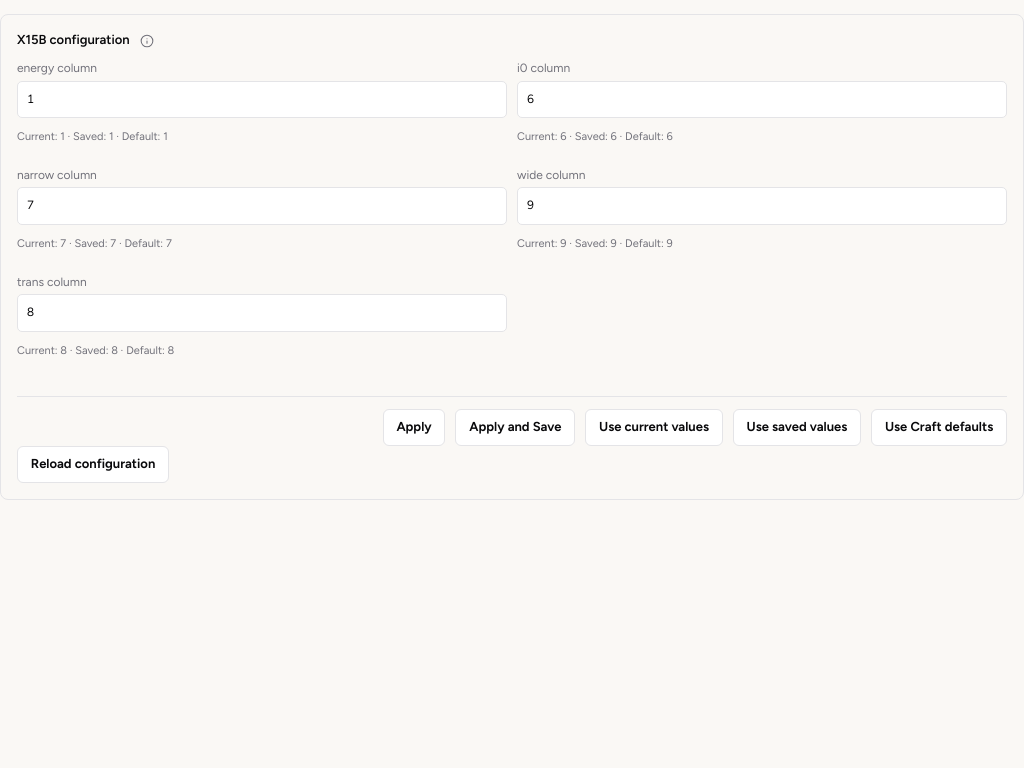
Scenario: applies only on demand and distinguishes current, saved and factory values
Replace the text in the number field labelled "i0 column" with "7" at (762, 99), box [517,81,1007,118]
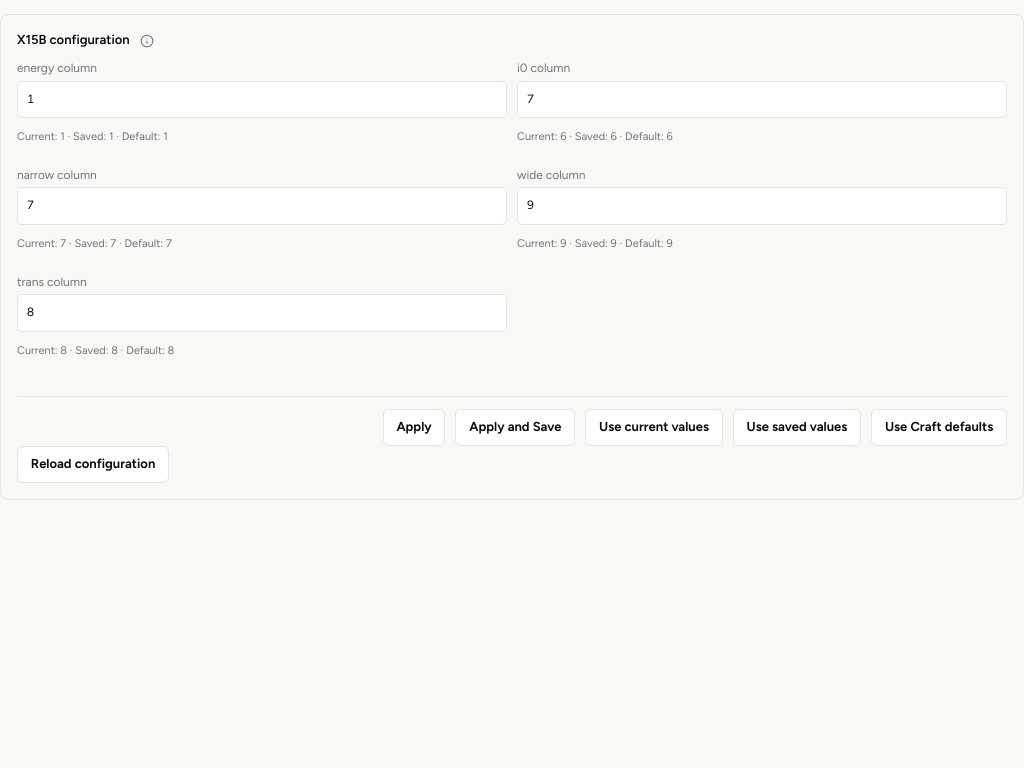
Click the button "Apply" at (414, 427), box [383,409,446,446]
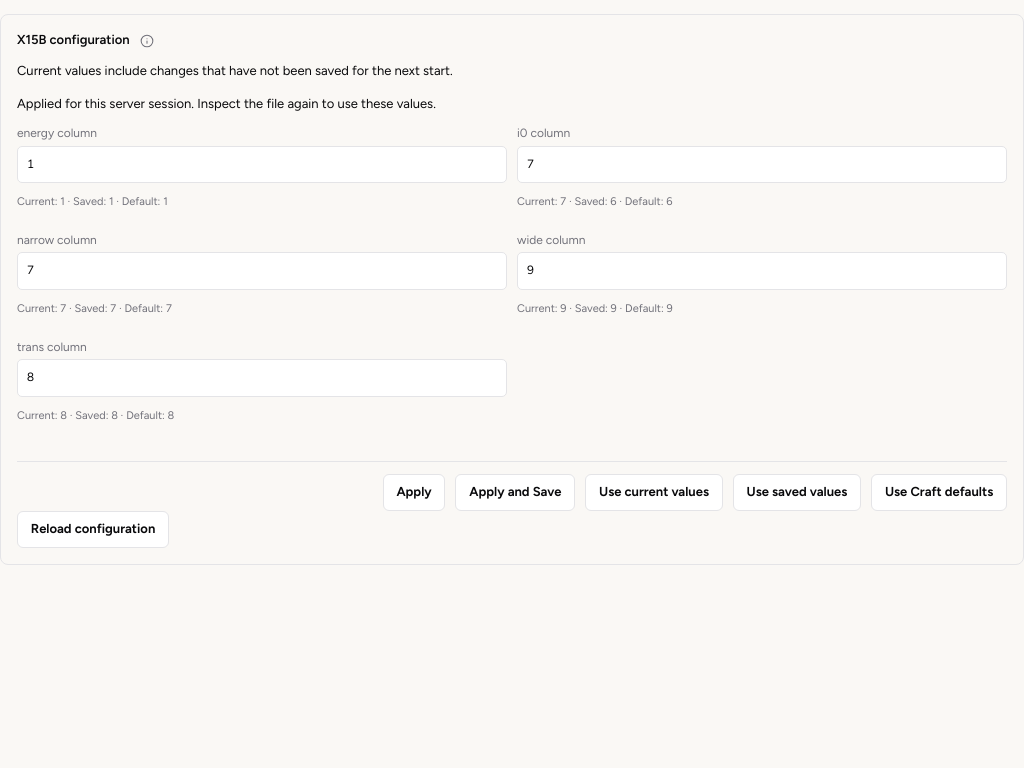
Now the text "Applied for this server session. Inspect the file again to use these values." is shown, box [17,96,436,110]
Now the text "Current: 7 · Saved: 6 · Default: 6" is shown, box [517,195,672,208]
Click the button "Use saved values" at (797, 492), box [733,474,861,511]
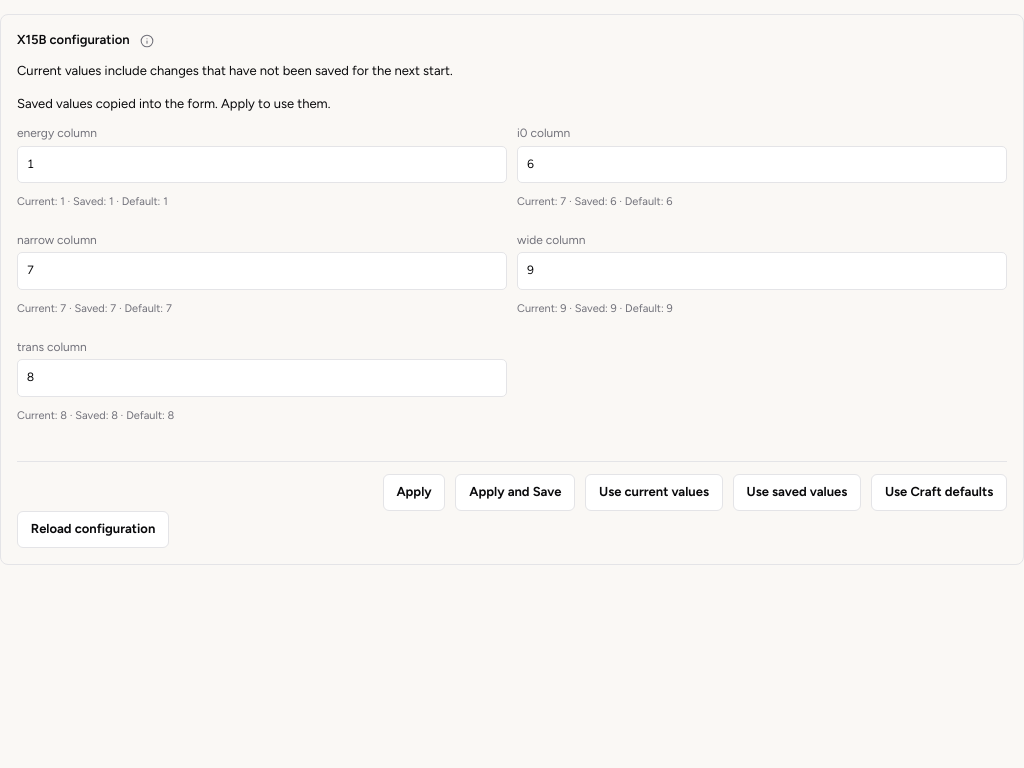
Now the number field labelled "i0 column" holds "6", box [517,146,1007,183]
Click the button "Use current values" at (654, 492), box [585,474,723,511]
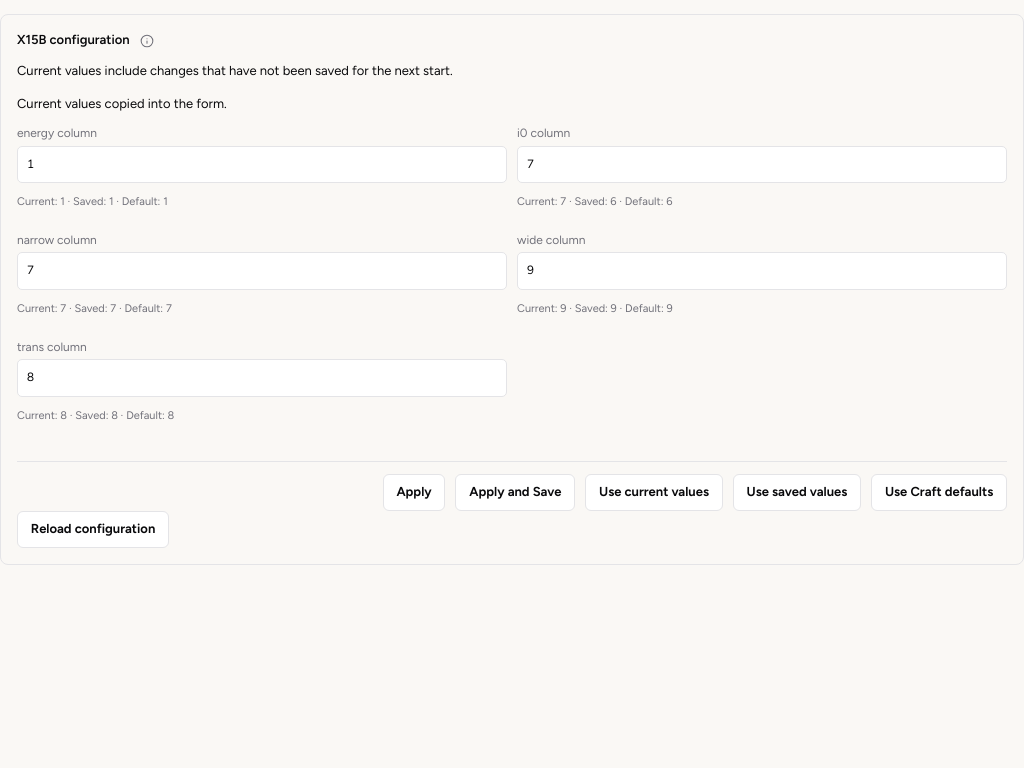
Click the button "Apply and Save" at (515, 492), box [456,474,575,511]
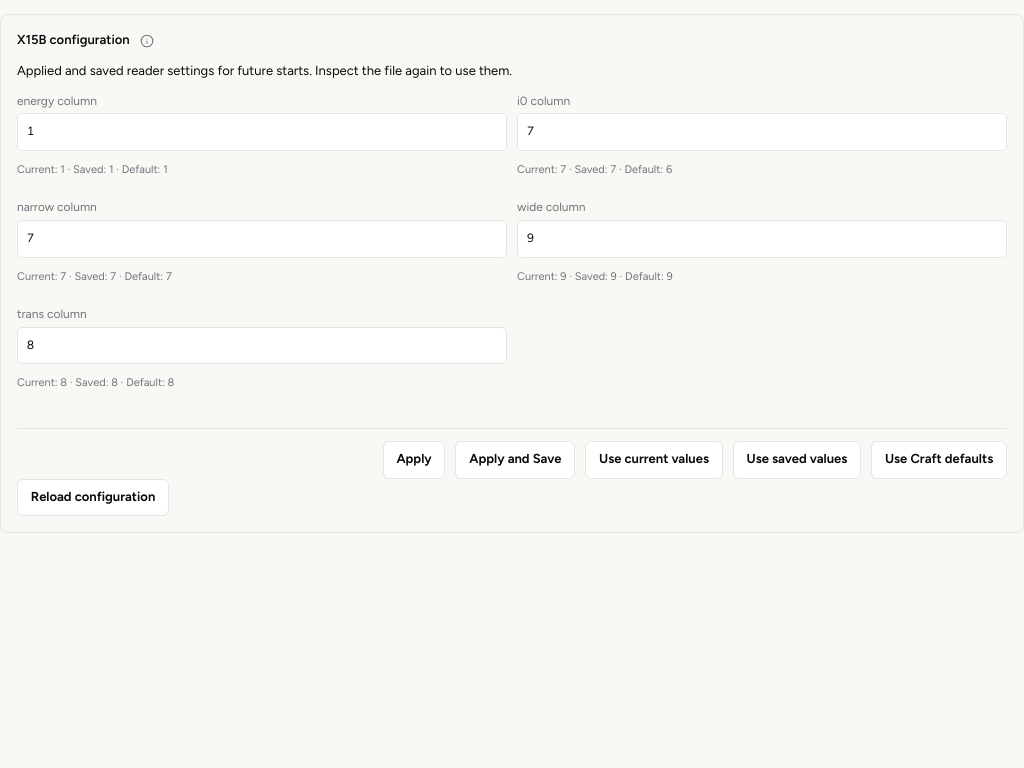
Now the text "Applied and saved reader settings" is shown, box [17,63,512,78]
Now the text "Current: 7 · Saved: 7 · Default: 6" is shown, box [517,163,672,176]
Click the button "Use Craft defaults" at (939, 460), box [871,441,1007,478]
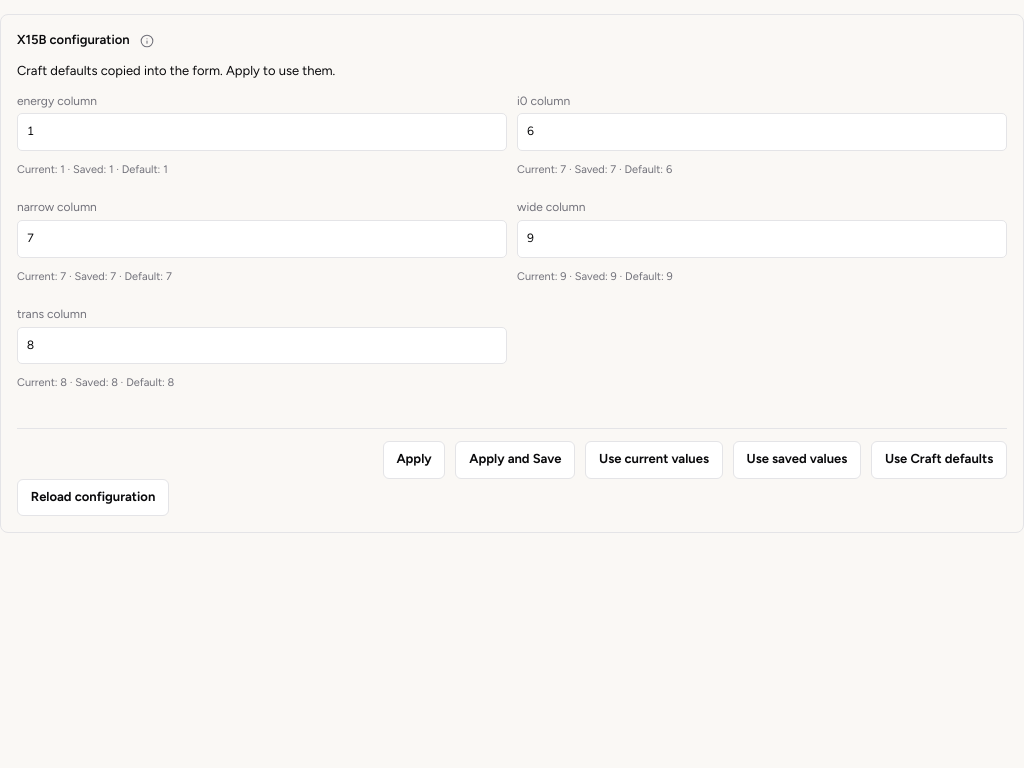
Now the number field labelled "i0 column" holds "6", box [517,113,1007,151]
